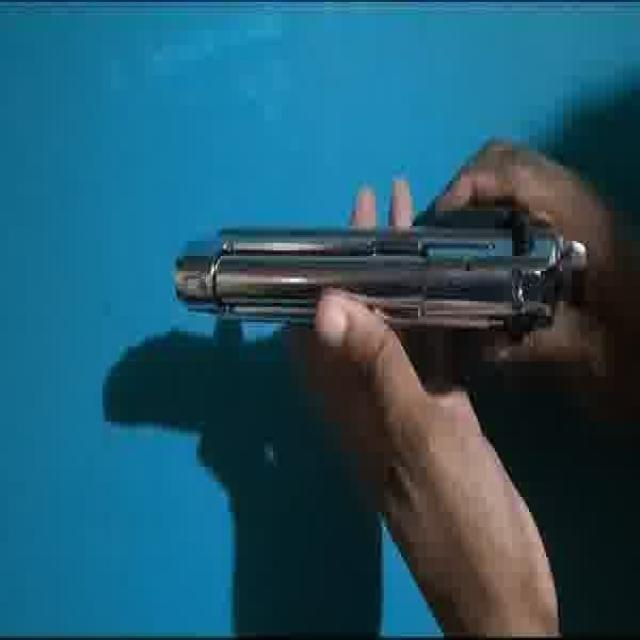weapon: (172, 204, 589, 338)
